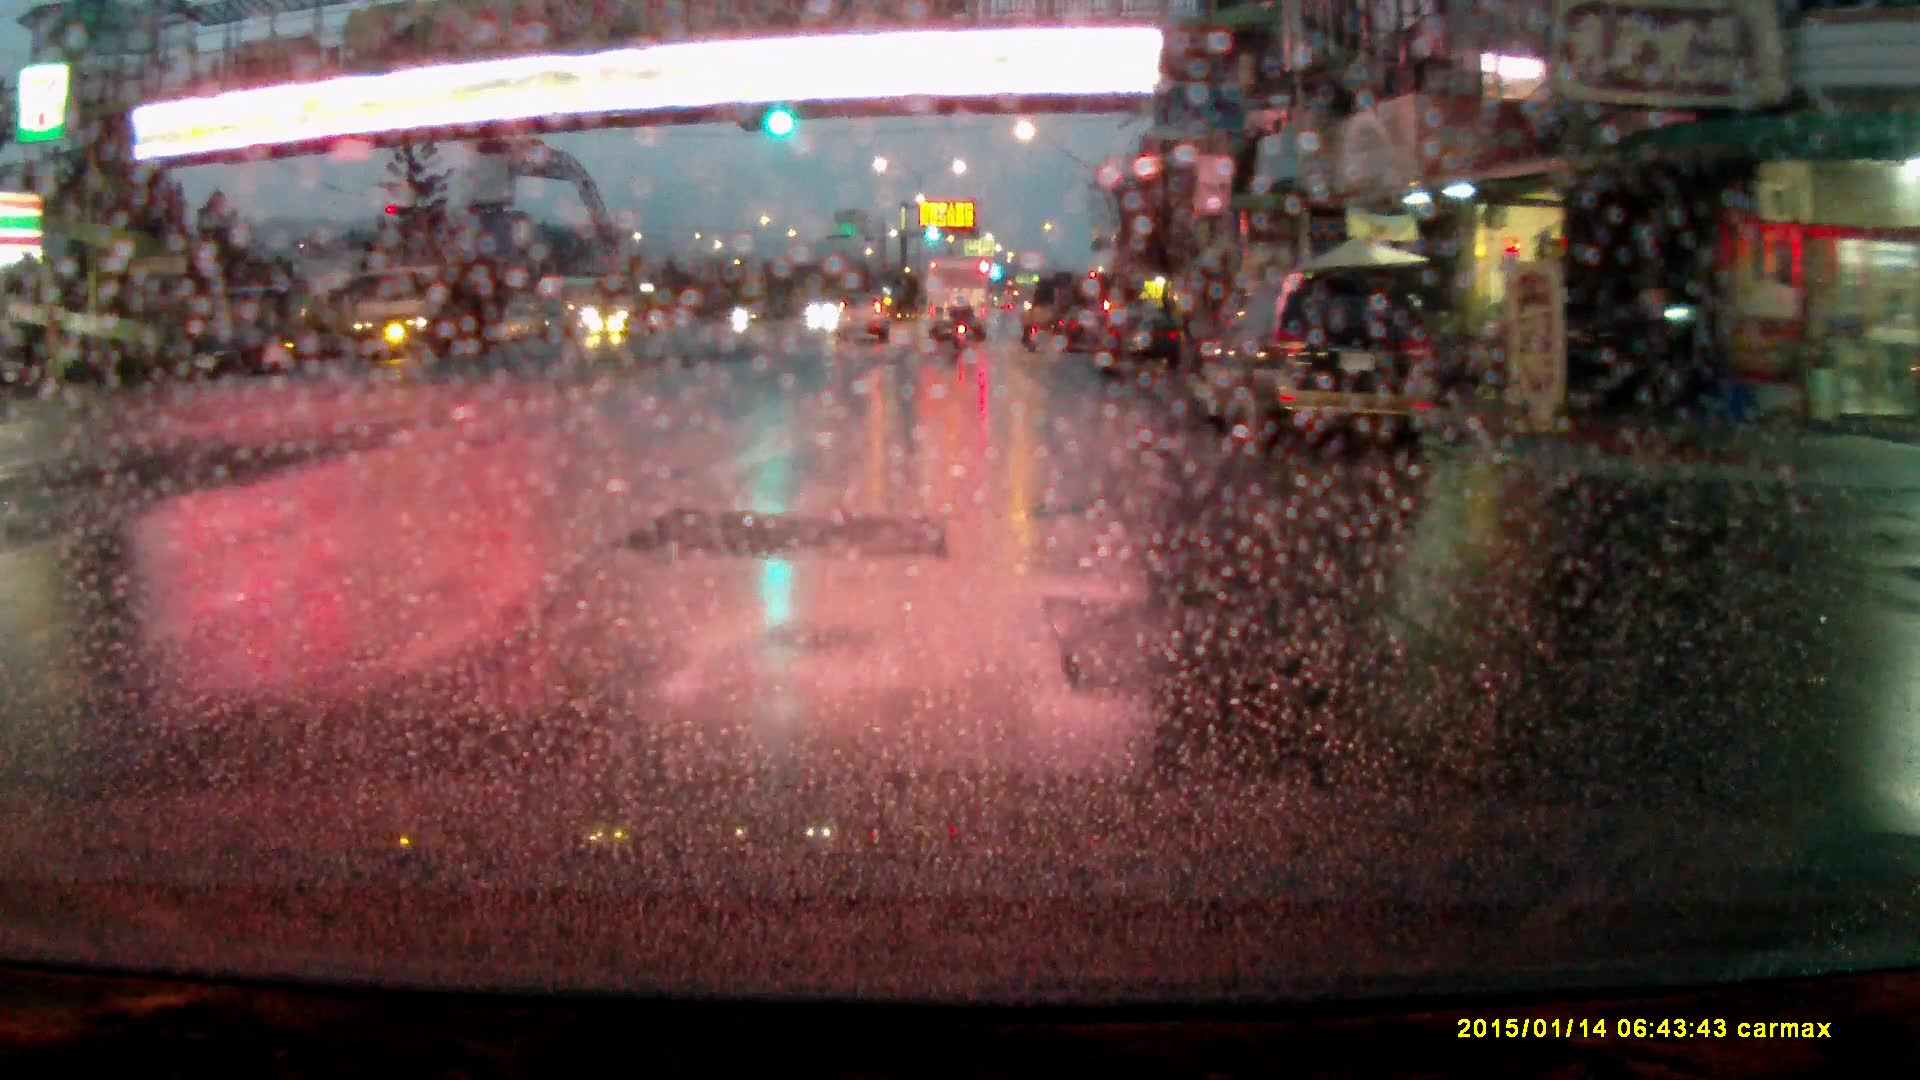rider: (949, 292, 974, 352)
vehicle: (1199, 274, 1436, 452), (1571, 293, 1705, 420), (344, 265, 495, 367), (1096, 308, 1185, 373), (924, 262, 993, 340), (584, 285, 669, 343), (836, 293, 894, 343), (1065, 306, 1114, 355)
